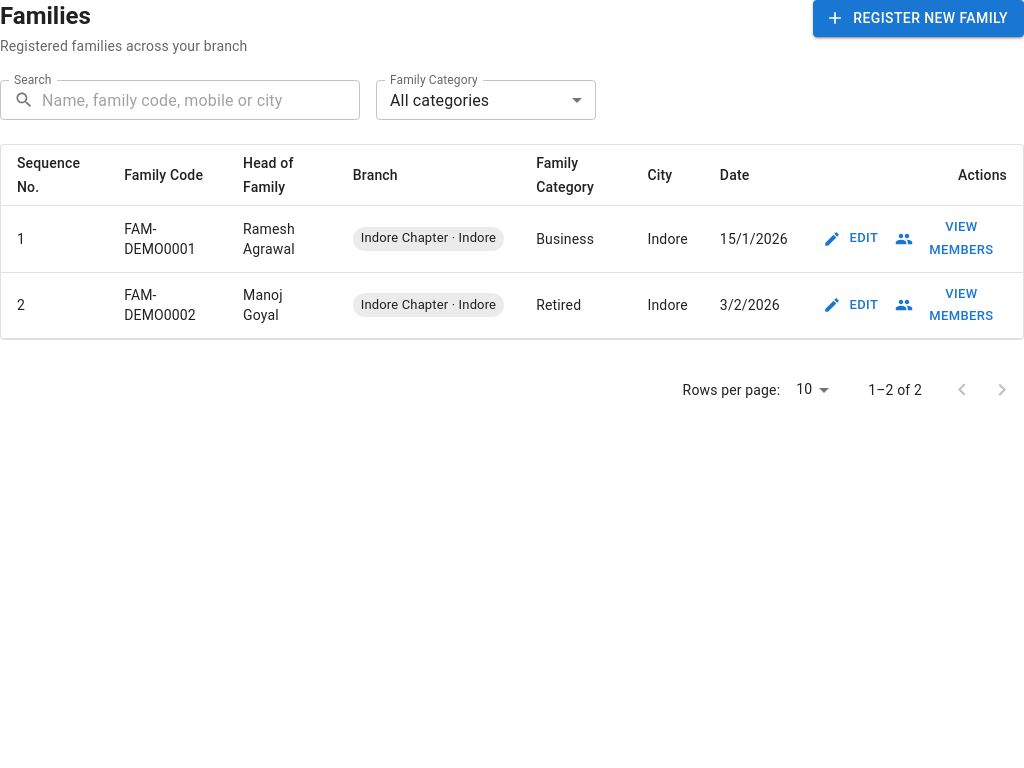
Test: FamiliesListPage › opens the members dialog and shows the family-tree data for that family
This screenshot has width=1024, height=768.
Expected: the text "FAM-DEMO0001" is shown, [108,206,227,272]
Click the button "View Members" in the row of "FAM-DEMO0001": (949, 239) [892,212,1007,266]
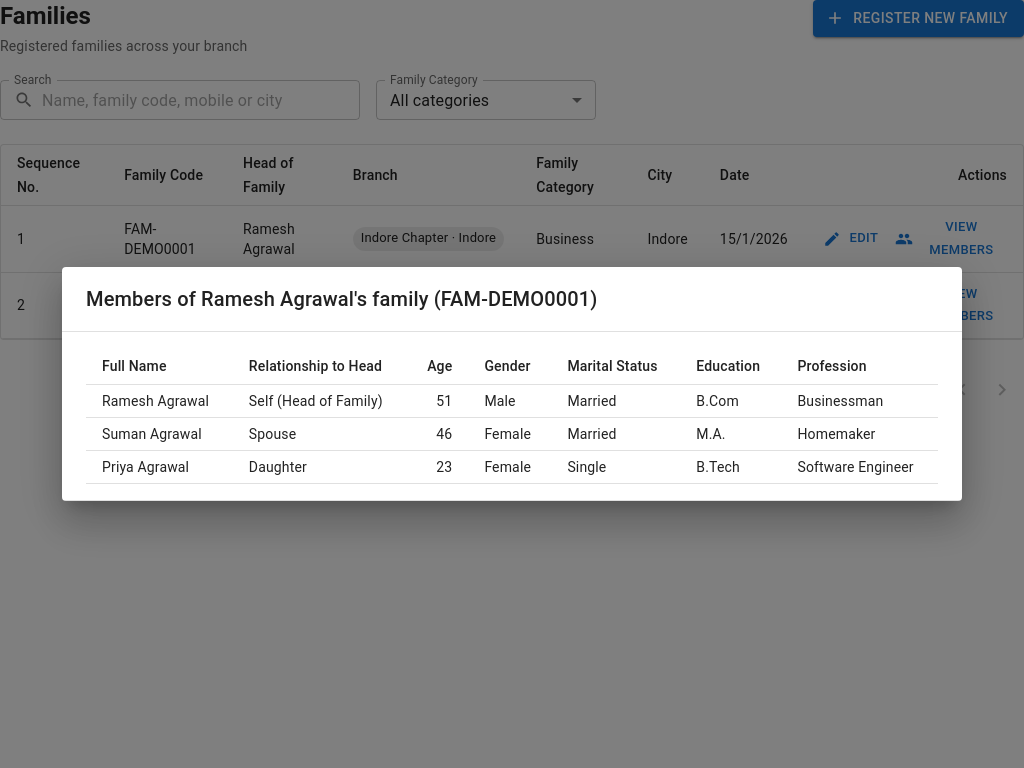
Expected: the text "Ramesh Agrawal" is shown, [86,384,233,418]
Expected: the text "Suman Agrawal" is shown, [86,418,233,450]
Expected: the text "Priya Agrawal" is shown, [86,450,233,484]
